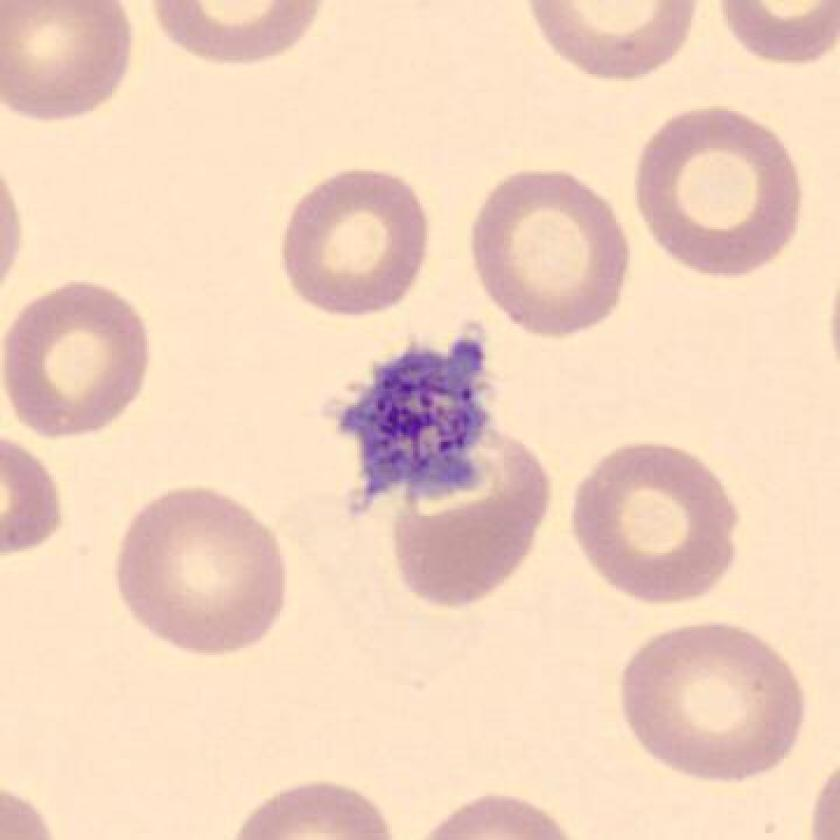platelets: (323, 327, 498, 517)
